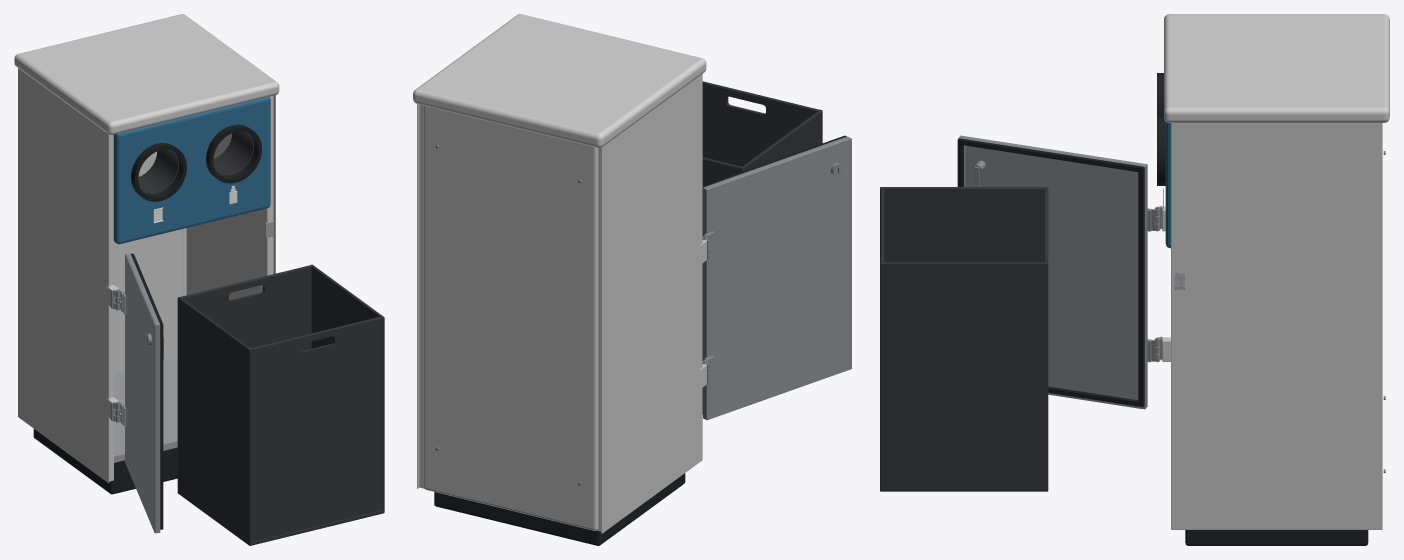
File: liner_removed.glb
3 renders of one model, left to right at view 1: azimuth 30°, elevation 25°; view 2: azimuth 150°, elevation 25°; view 3: azimuth 270°, elevation 25°, orthographic. The views are drawn at different scales.
Visible parts, largest first — view 1: Two millimetre folded side sheet, Liner front or rear, Weather cap, Liner side, Blue sorting aperture fascia, Liner front or rear.001, Two millimetre folded side sheet.001, Two millimetre painted door skin, Rear cabinet panel, Liner side.001, Cabinet floor, Side sheet folded return (+9 smaller); view 2: Rear cabinet panel, Two millimetre folded side sheet, Two millimetre painted door skin, Weather cap, Liner front or rear, Recessed plinth, Side sheet folded return.003, Side sheet folded return.001, Liner side, Two millimetre folded side sheet.001, Door folded vertical return, Liner front or rear.001 (+1 smaller); view 3: Two millimetre folded side sheet.001, Liner side.001, Weather cap, Two millimetre painted door skin, Liner side, Recessed plinth, Door moving perimeter seal, Door moving perimeter seal.003, Blue sorting aperture fascia, Door folded vertical return, Door moving perimeter seal.002, Door folded horizontal return.001 (+1 smaller).
Part boxes in pixels (left/top/right/bottom): Two millimetre folded side sheet: left=18, top=68, right=109, bottom=483; Liner front or rear: left=250, top=316, right=381, bottom=541; Weather cap: left=14, top=14, right=279, bottom=134; Liner side: left=177, top=297, right=252, bottom=545; Blue sorting aperture fascia: left=113, top=96, right=270, bottom=244; Liner front or rear.001: left=180, top=265, right=311, bottom=351; Two millimetre folded side sheet.001: left=186, top=95, right=275, bottom=300; Two millimetre painted door skin: left=125, top=254, right=155, bottom=532; Rear cabinet panel: left=114, top=151, right=182, bottom=373; Liner side.001: left=311, top=264, right=384, bottom=513; Cabinet floor: left=114, top=358, right=177, bottom=462; Side sheet folded return: left=106, top=133, right=113, bottom=481; Rear cabinet panel: left=423, top=105, right=598, bottom=530; Two millimetre folded side sheet: left=601, top=74, right=702, bottom=533; Two millimetre painted door skin: left=706, top=138, right=851, bottom=420; Weather cap: left=413, top=14, right=706, bottom=147; Liner front or rear: left=702, top=81, right=819, bottom=166; Recessed plinth: left=434, top=473, right=685, bottom=545; Side sheet folded return.003: left=419, top=104, right=423, bottom=488; Side sheet folded return.001: left=597, top=146, right=604, bottom=531; Liner side: left=740, top=109, right=822, bottom=172; Two millimetre folded side sheet.001: left=417, top=104, right=419, bottom=488; Door folded vertical return: left=703, top=187, right=708, bottom=419; Liner front or rear.001: left=702, top=157, right=741, bottom=185; Two millimetre folded side sheet.001: left=1171, top=123, right=1382, bottom=529; Liner side.001: left=880, top=262, right=1048, bottom=491; Weather cap: left=1164, top=14, right=1389, bottom=122; Two millimetre painted door skin: left=960, top=135, right=1147, bottom=406; Liner side: left=880, top=187, right=1048, bottom=262; Recessed plinth: left=1185, top=530, right=1368, bottom=545; Door moving perimeter seal: left=1138, top=166, right=1144, bottom=407; Door moving perimeter seal.003: left=961, top=138, right=1140, bottom=171; Blue sorting aperture fascia: left=1165, top=122, right=1170, bottom=248; Door folded vertical return: left=1140, top=164, right=1146, bottom=409; Door moving perimeter seal.002: left=1048, top=386, right=1139, bottom=406; Door folded horizontal return.001: left=961, top=136, right=1143, bottom=166.
Bounding box in the file's own units: 0.5982 × 1.02 × 1.06.
